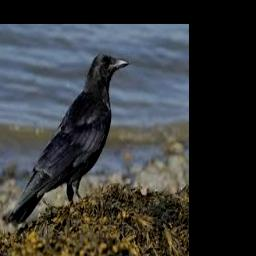Crow: (8, 53, 128, 225)
